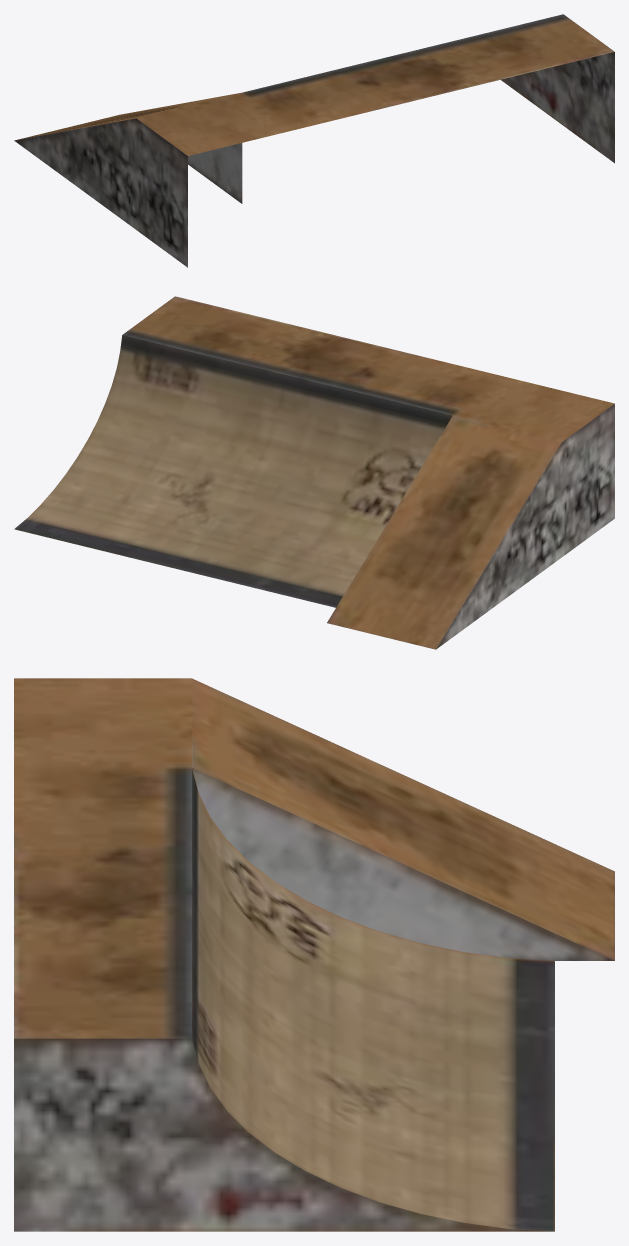
Rendered from skate-wedge.lod1.glb.
3 renders of one model, top to bottom at view 1: azimuth 30°, elevation 25°; view 2: azimuth 150°, elevation 25°; view 3: azimuth 270°, elevation 25°, orthographic. The views are drawn at different scales.
Visible parts, largest first — view 1: InclineRamp_M_Ramp_0; view 2: InclineRamp_M_Ramp_0; view 3: InclineRamp_M_Ramp_0.
Part boxes in pixels (x1,y1,x2,y2): InclineRamp_M_Ramp_0: [14, 14, 614, 267]; InclineRamp_M_Ramp_0: [14, 296, 614, 649]; InclineRamp_M_Ramp_0: [14, 678, 614, 1231].
Bounding box in the file's own units: 10.33 × 2.58 × 7.28.
1 material, 1 textured.
